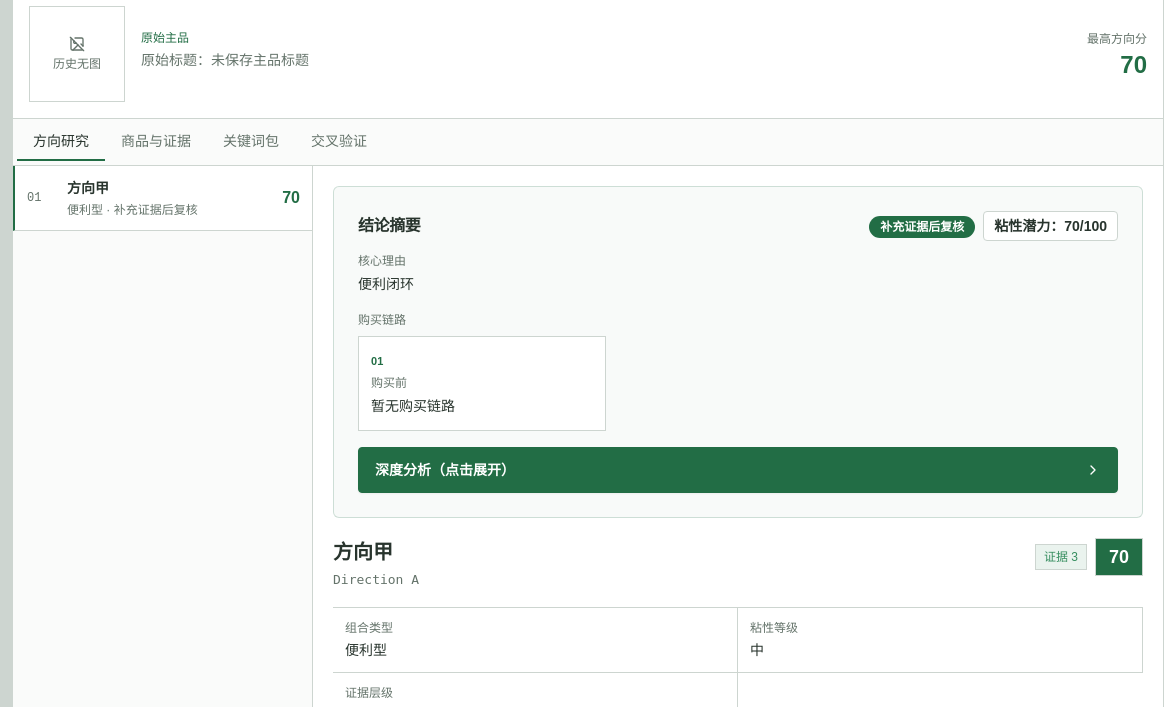
opens deep analysis and focuses the current direction evidence
Click the button with aria-label "查看待补证据" at (922, 226), box [869,214,975,238]
(page scrolled)
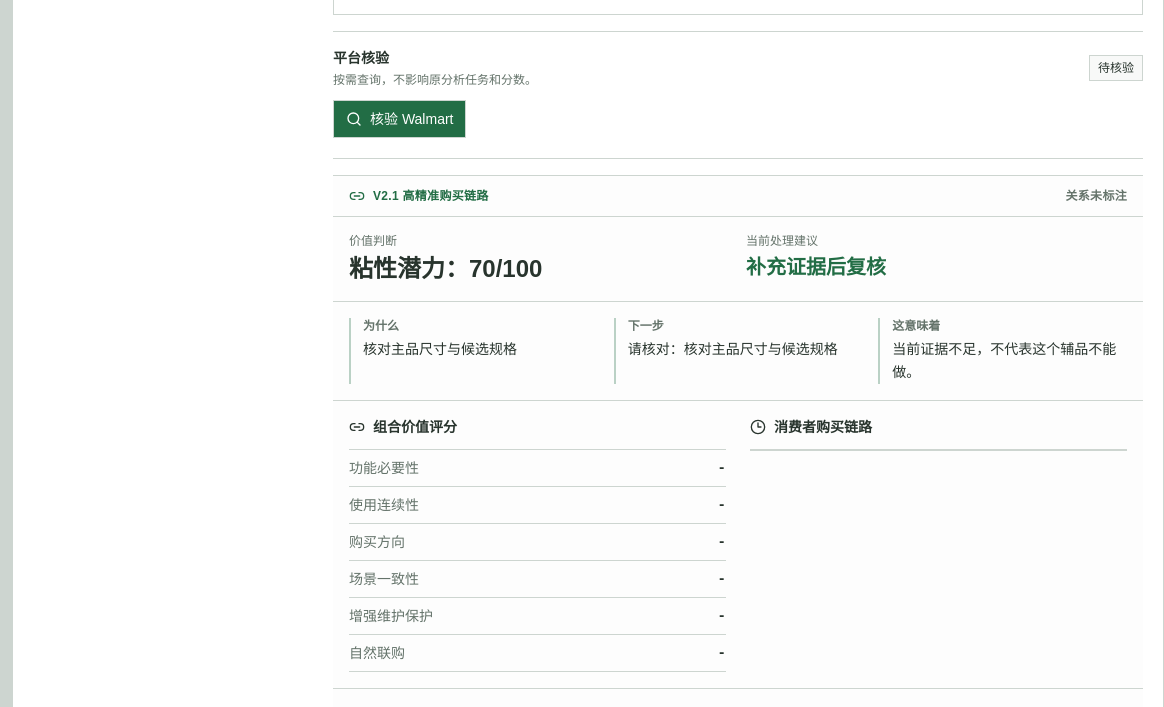
Result: the text "核对主品尺寸与候选规格" is shown at [363,342,517,358]
